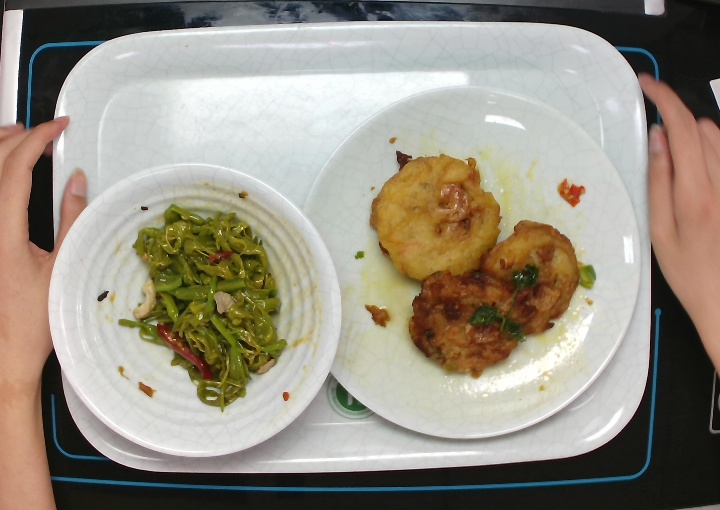JYsf-Da_Yuan_Pan: (298, 81, 644, 442)
JYsf-Xiao_Tang_Wan: (44, 159, 346, 460)
